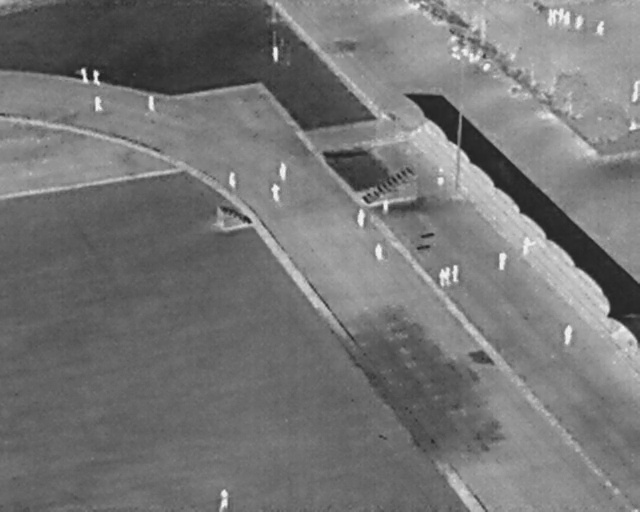DontCare: (449, 39, 492, 74)
Person: (218, 488, 230, 512), (631, 77, 640, 106), (563, 324, 573, 346), (356, 207, 366, 228), (271, 183, 281, 202), (374, 242, 384, 261), (498, 250, 507, 271), (444, 266, 453, 287), (228, 171, 237, 189), (575, 14, 585, 30), (80, 67, 89, 84), (279, 162, 287, 181), (452, 264, 460, 283), (93, 69, 101, 87), (94, 96, 103, 112), (439, 268, 446, 288), (437, 167, 444, 187), (597, 21, 605, 36), (383, 197, 390, 213), (553, 8, 559, 26), (148, 95, 154, 112), (558, 7, 564, 24), (547, 9, 553, 26), (273, 46, 279, 62), (565, 11, 570, 27)
